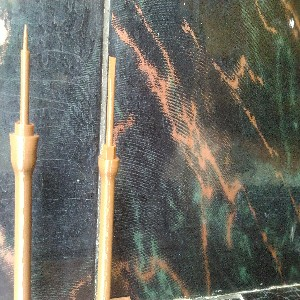obeng: (95, 55, 119, 300)
solder: (8, 23, 40, 300)
